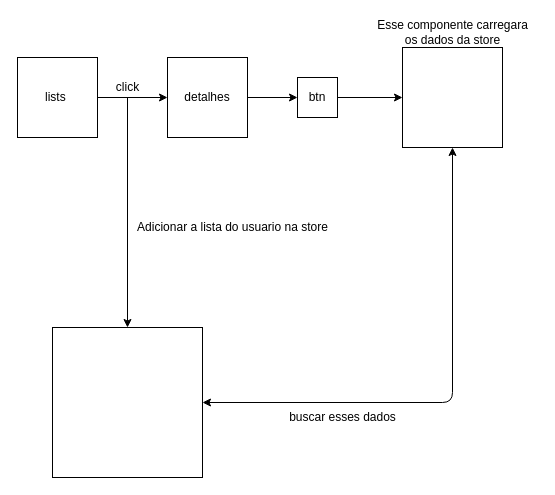
Image size: 555x495. Some labels were removed from this diagram. Here are the shapes that lost their labels. From the top down, the centre of each, then its label:
the point at 452,97: Editar
the point at 127,402: Store
